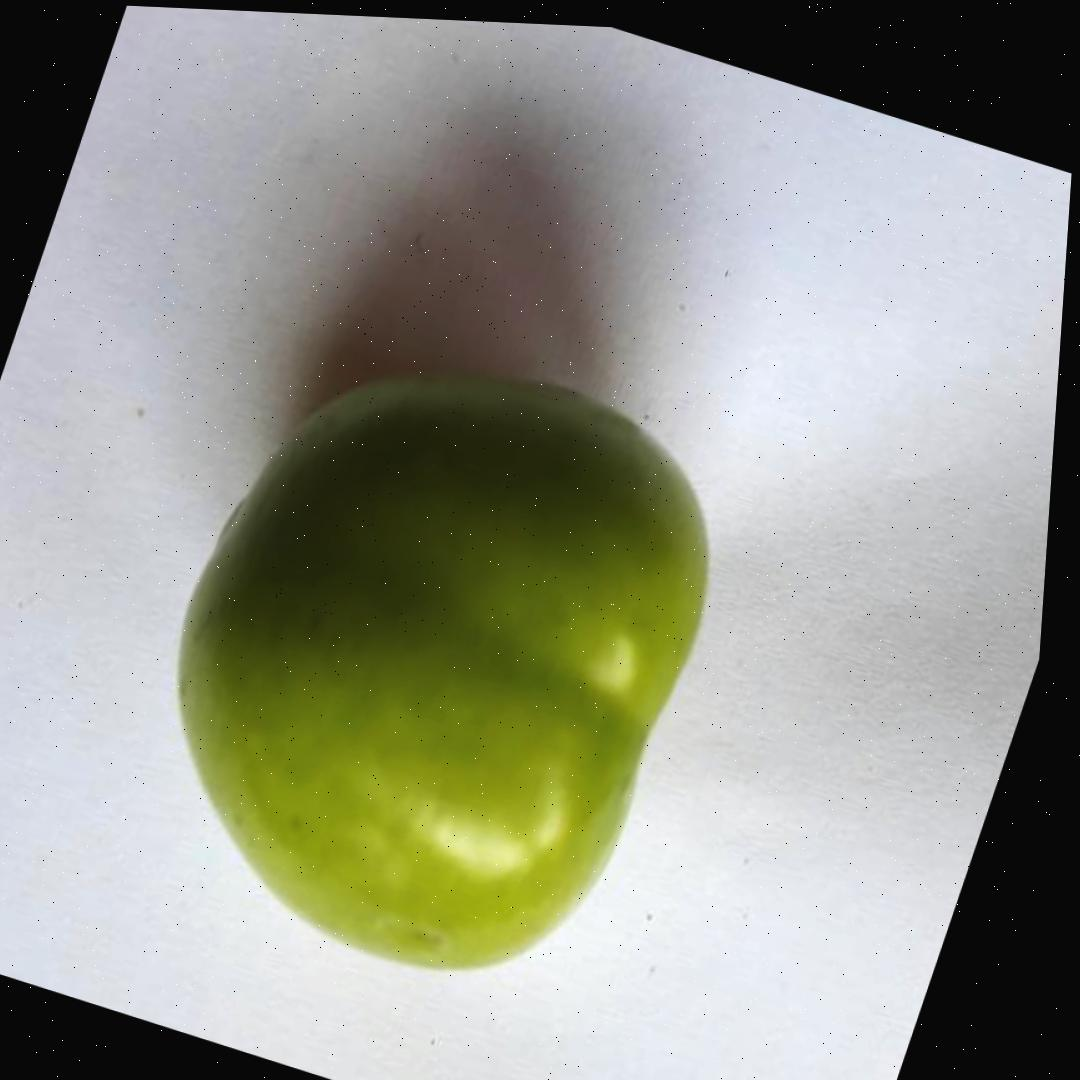mentah: (88, 282, 773, 1033)
